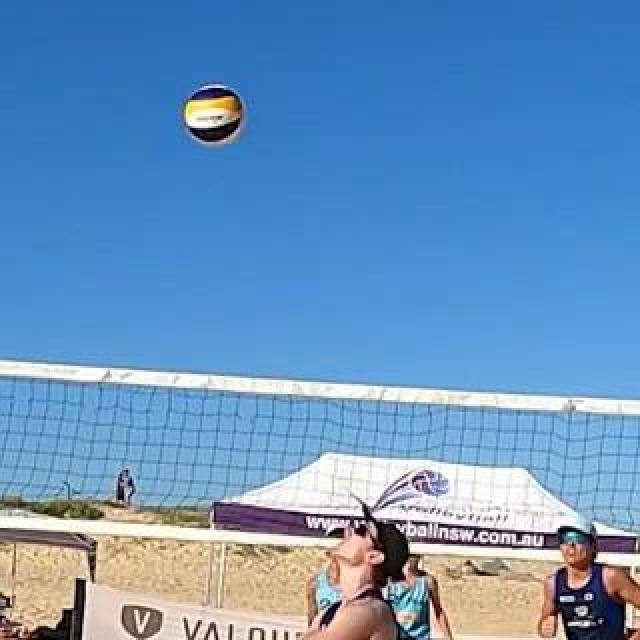volleyball: (186, 88, 244, 144)
